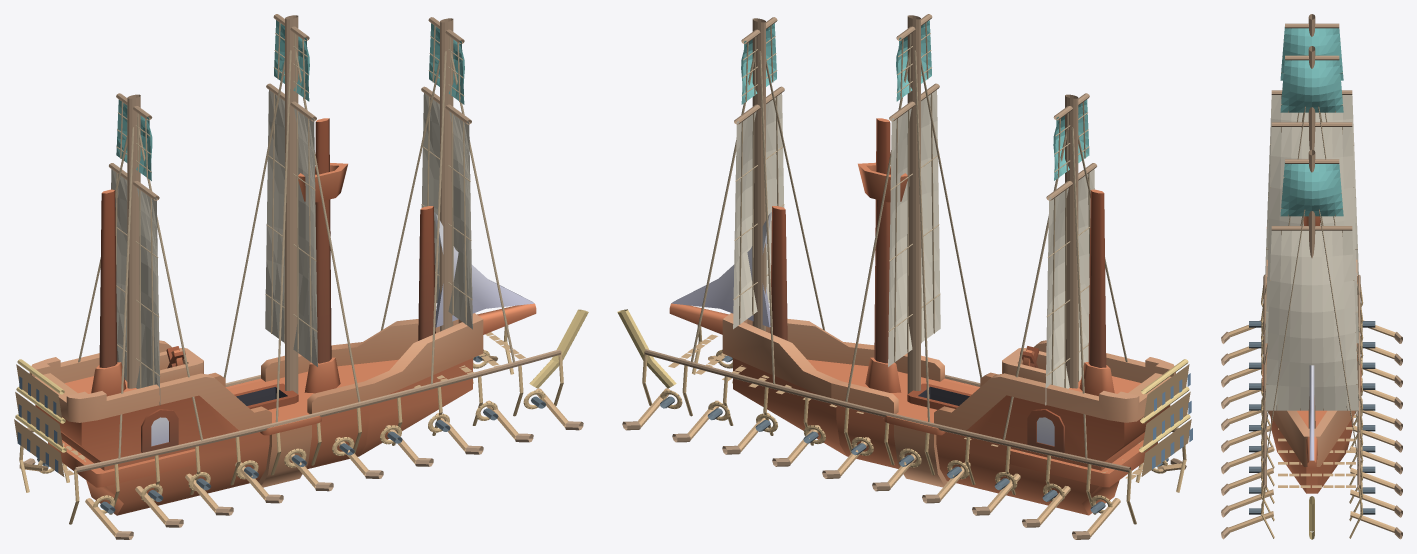
The model's file is chola_warship-custom.glb.
The picture shows the model from 3 angles, left to right: view 1: azimuth 30°, elevation 25°; view 2: azimuth 150°, elevation 25°; view 3: azimuth 270°, elevation 25°; orthographic projection. The views are drawn at different scales.
Parts seen in each view (by area): view 1: chola_warship-custom-geometry, ship-medium; view 2: chola_warship-custom-geometry, ship-medium; view 3: chola_warship-custom-geometry, ship-medium.
Part boxes in pixels (x1,y1,x2,y2): chola_warship-custom-geometry: (14, 14, 588, 539); ship-medium: (29, 118, 536, 515); chola_warship-custom-geometry: (617, 14, 1192, 539); ship-medium: (669, 118, 1175, 515); chola_warship-custom-geometry: (1221, 14, 1402, 539); ship-medium: (1262, 216, 1361, 493).
Bounding box in the file's own units: 43.72 × 34 × 13.99.
10 materials, 1 textured.
